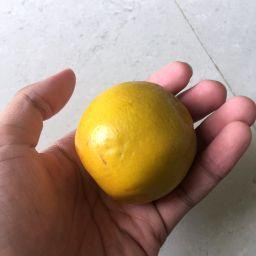Ripe: (75, 84, 198, 198)
